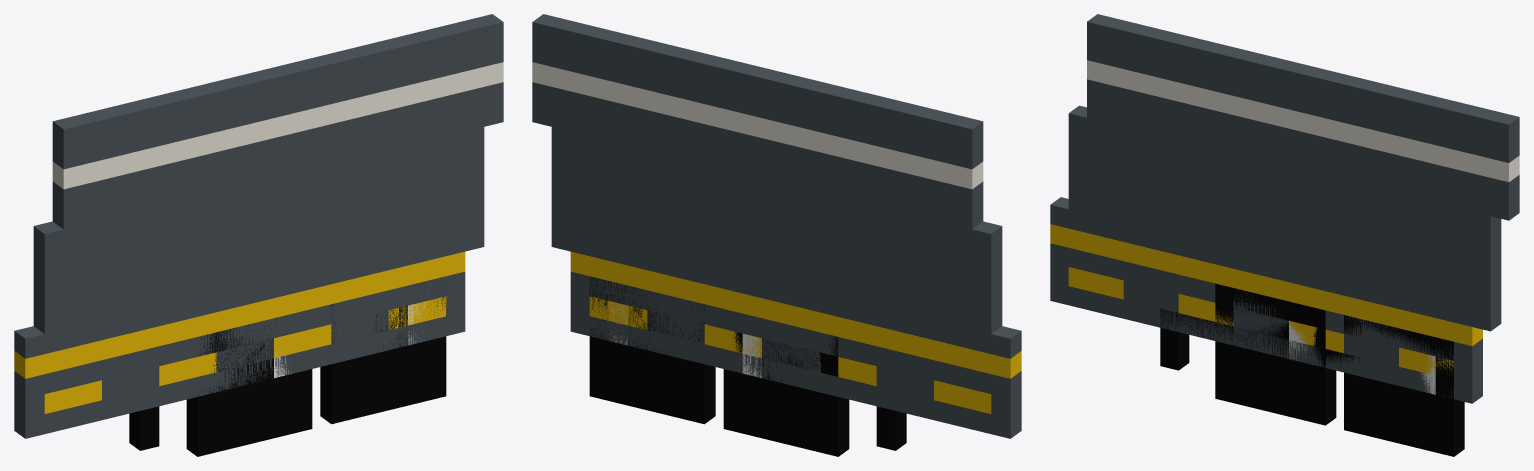
Rendered from road.glb.
3 renders of one model, left to right at view 1: azimuth 30°, elevation 25°; view 2: azimuth 150°, elevation 25°; view 3: azimuth 330°, elevation 25°, orthographic. The views are drawn at different scales.
Visible parts, largest first — view 1: base, glasses, layer-2; view 2: base, glasses, layer-2; view 3: base, glasses, layer-2.
Boxes of the visible parts, bbox=[...] form: base: bbox=[14, 14, 503, 438]; glasses: bbox=[129, 281, 446, 456]; layer-2: bbox=[216, 302, 426, 431]; base: bbox=[532, 14, 1021, 438]; glasses: bbox=[589, 276, 906, 456]; layer-2: bbox=[609, 302, 819, 431]; base: bbox=[1050, 14, 1519, 403]; glasses: bbox=[1160, 283, 1464, 456]; layer-2: bbox=[1233, 308, 1435, 433].
Size of the model in its own units: 25 by 18 by 1.
7 materials, 7 textured.
